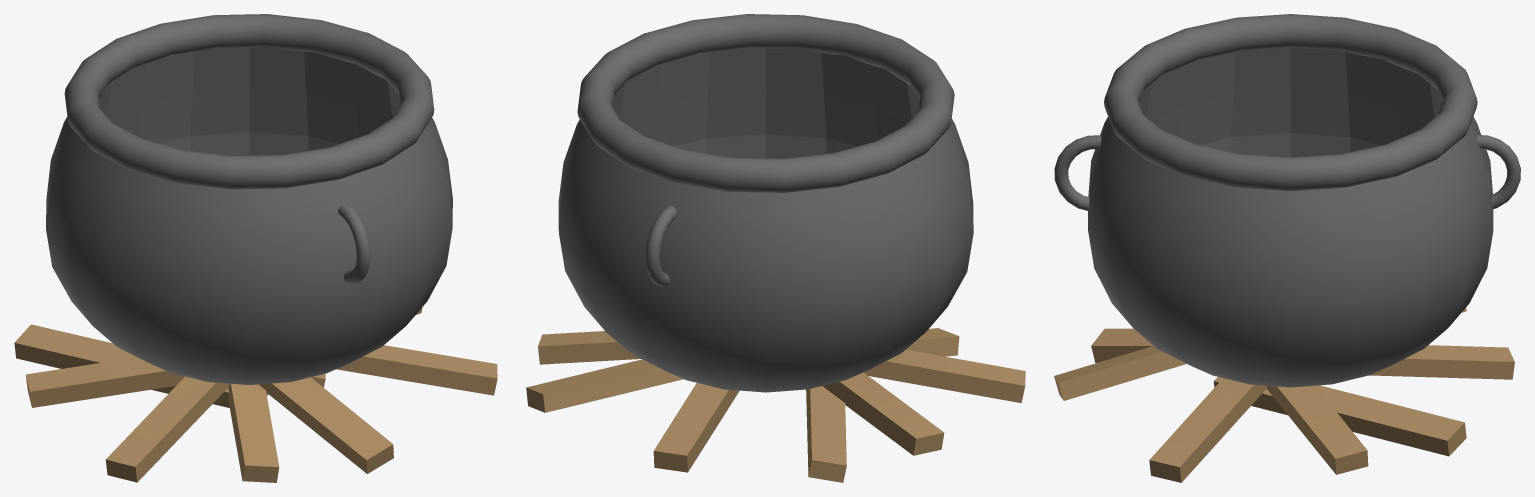
Rendered from hanari.fbx.
3 views of the same model, side by side, from view 1: azimuth 30°, elevation 25°; view 2: azimuth 150°, elevation 25°; view 3: azimuth 270°, elevation 25° (orthographic). The views are drawn at different scales.
Visible parts, largest first — view 1: pTorus5, pCube1, pCube5, pCube3, pCube6, pCube2; view 2: pTorus5, pCube2, pCube3, pCube1, pCube4, pCube6; view 3: pTorus5, pCube2, pCube1, pCube3, pCube4, pCube5, pCube6.
Boxes of the visible parts, x1=… form: pTorus5: x1=46, y1=14, x2=452, y2=384; pCube1: x1=105, y1=345, x2=497, y2=482; pCube5: x1=259, y1=377, x2=393, y2=473; pCube3: x1=25, y1=307, x2=422, y2=407; pCube6: x1=228, y1=383, x2=279, y2=482; pCube2: x1=14, y1=324, x2=325, y2=407; pTorus5: x1=558, y1=14, x2=973, y2=392; pCube2: x1=526, y1=359, x2=846, y2=482; pCube3: x1=538, y1=331, x2=944, y2=455; pCube1: x1=864, y1=349, x2=1025, y2=403; pCube4: x1=653, y1=383, x2=739, y2=472; pCube6: x1=906, y1=328, x2=959, y2=356; pTorus5: x1=1054, y1=14, x2=1520, y2=387; pCube2: x1=1213, y1=307, x2=1466, y2=456; pCube1: x1=1149, y1=378, x2=1266, y2=482; pCube3: x1=1266, y1=385, x2=1368, y2=474; pCube4: x1=1369, y1=345, x2=1514, y2=379; pCube5: x1=1054, y1=346, x2=1186, y2=400; pCube6: x1=1091, y1=328, x2=1153, y2=362.
Size of the model in its own units: 13.16 by 9.79 by 13.37.
